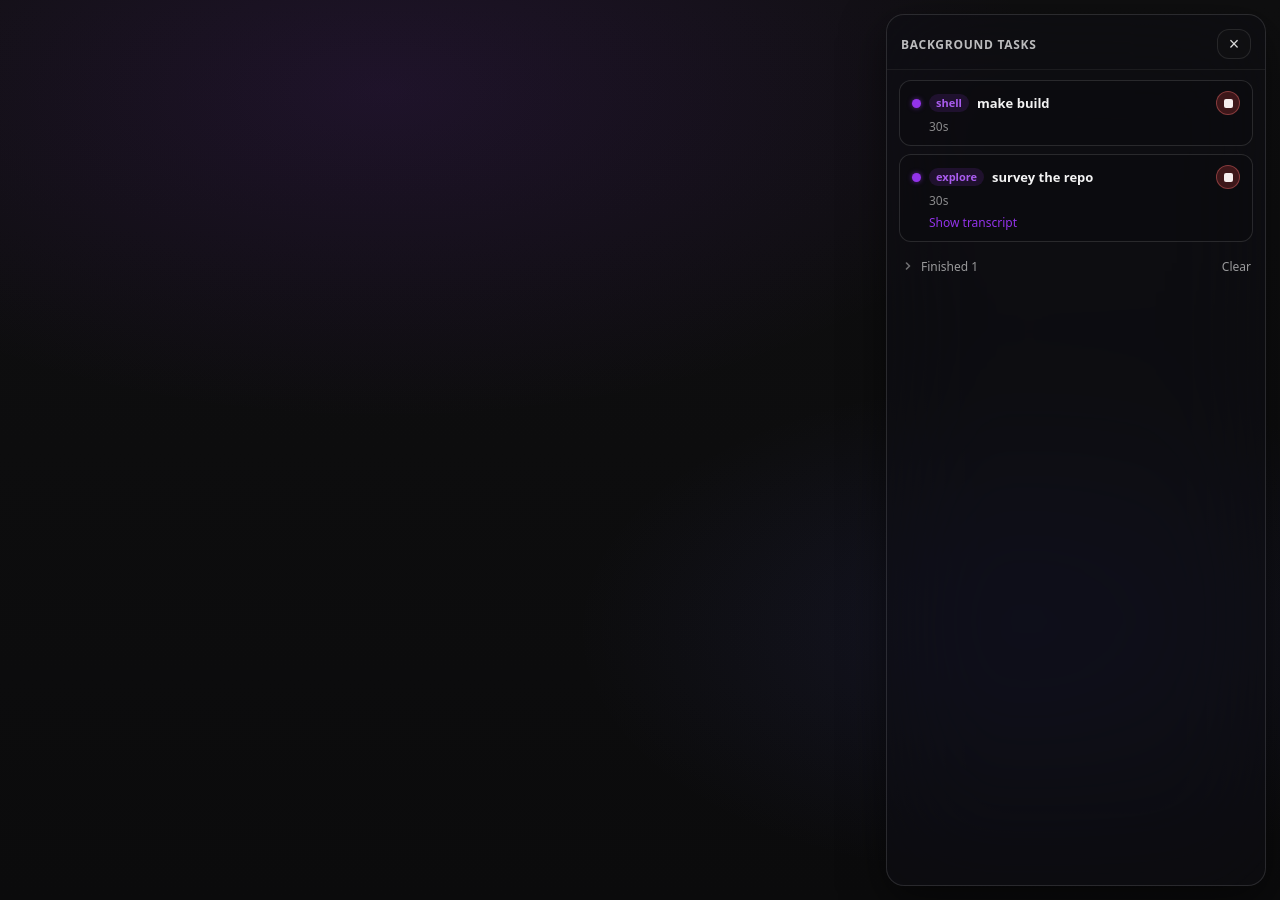
it: any number of cards stay open side by side, each with its own output
Click the button with test id "bgtask-open-bg_1" at (949, 103), box 912,94 -> 1208,112
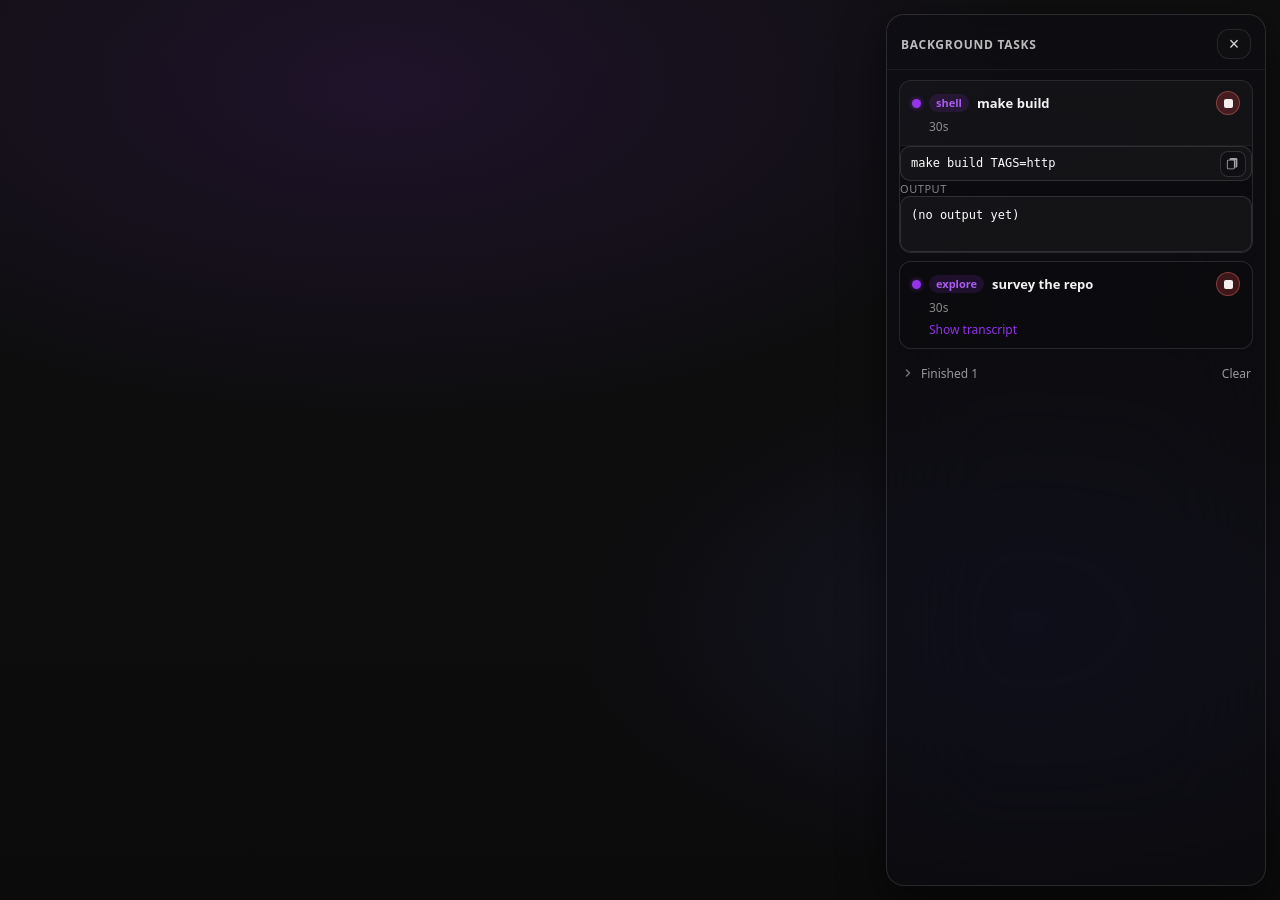
Click the button with test id "bgtask-open-bg_7" at (1060, 284), box 912,275 -> 1208,293
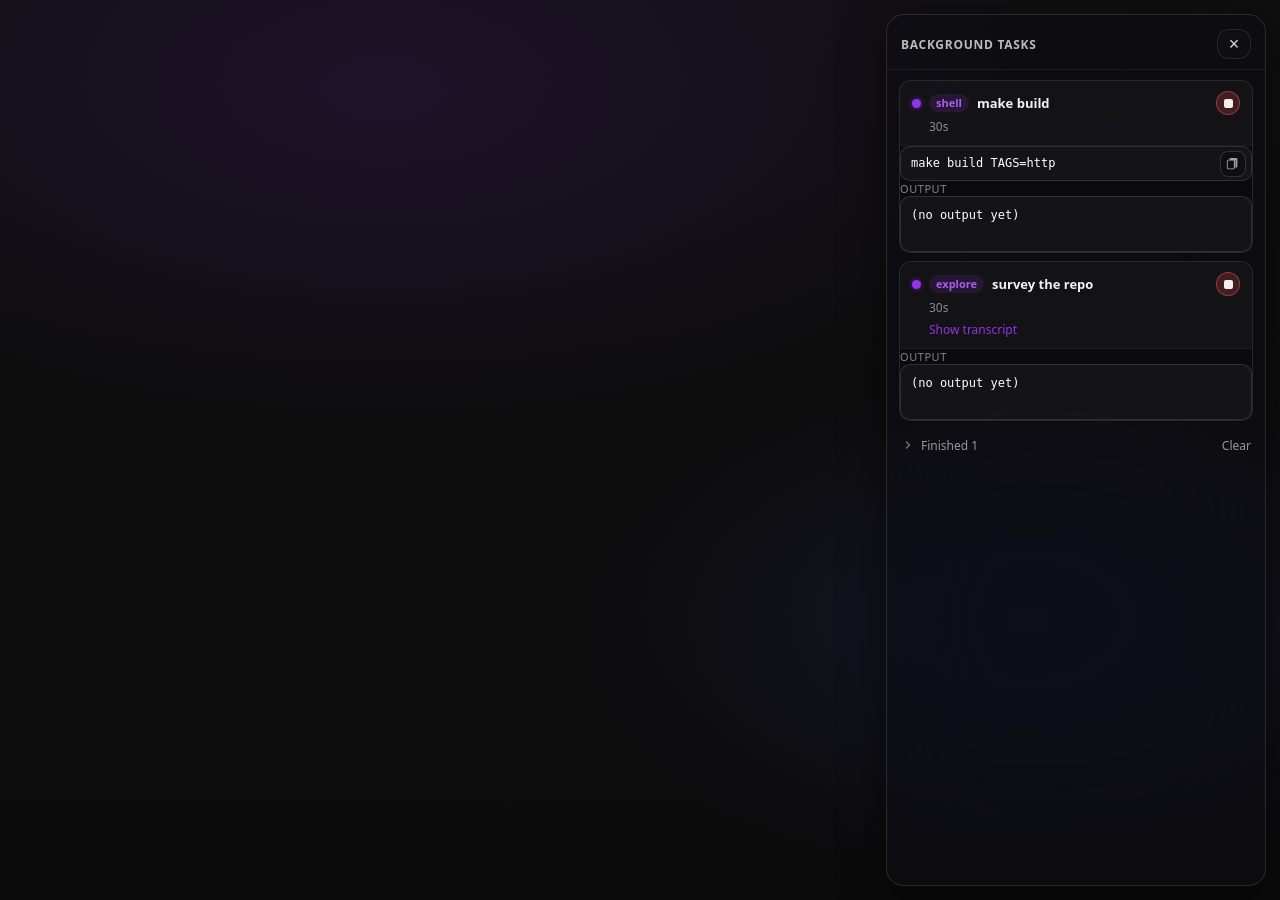
Click the button with test id "bgtask-finished-toggle" at (940, 445), box 901,431 -> 978,459
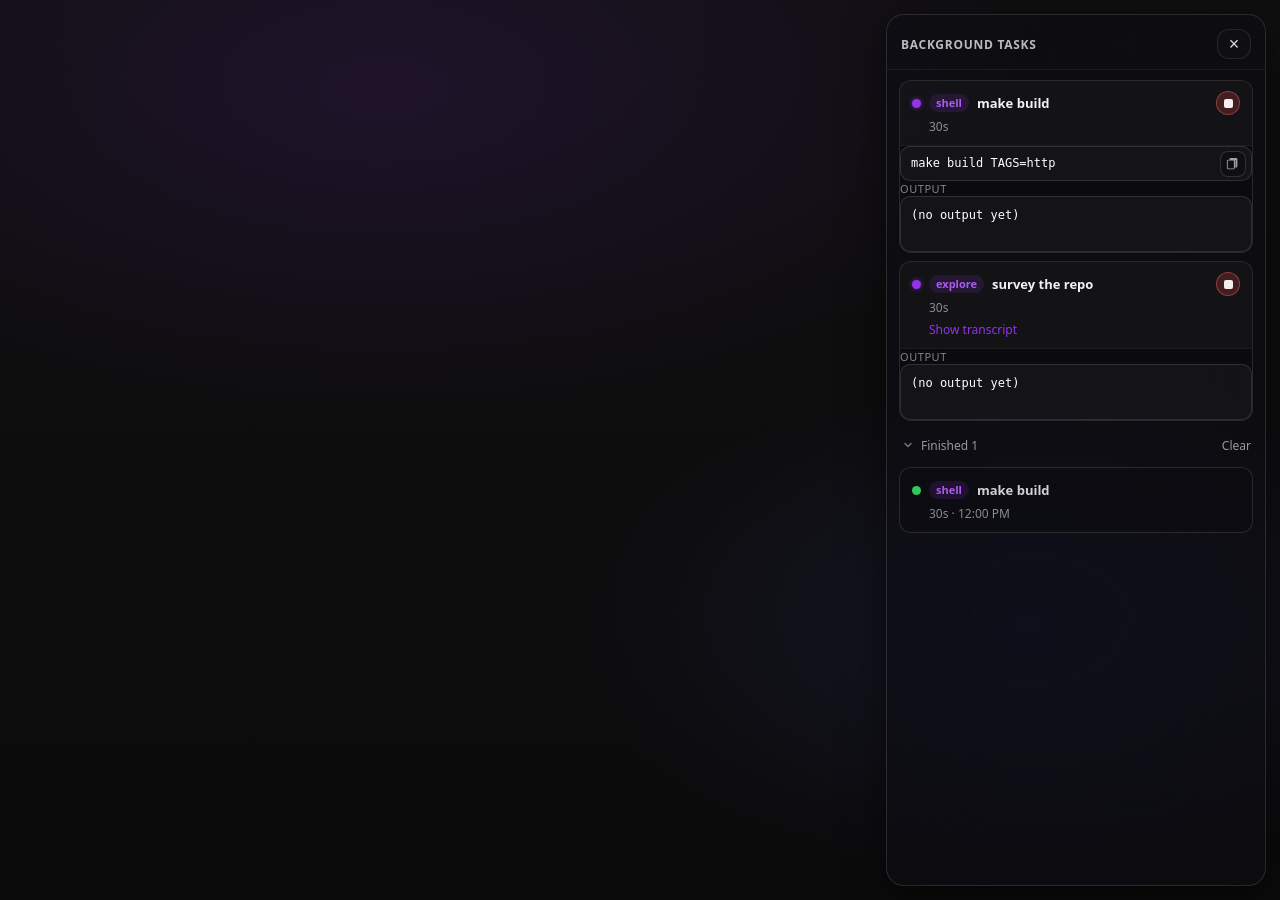
Click the button with test id "bgtask-open-bg_2" at (949, 490), box 912,481 -> 1240,499
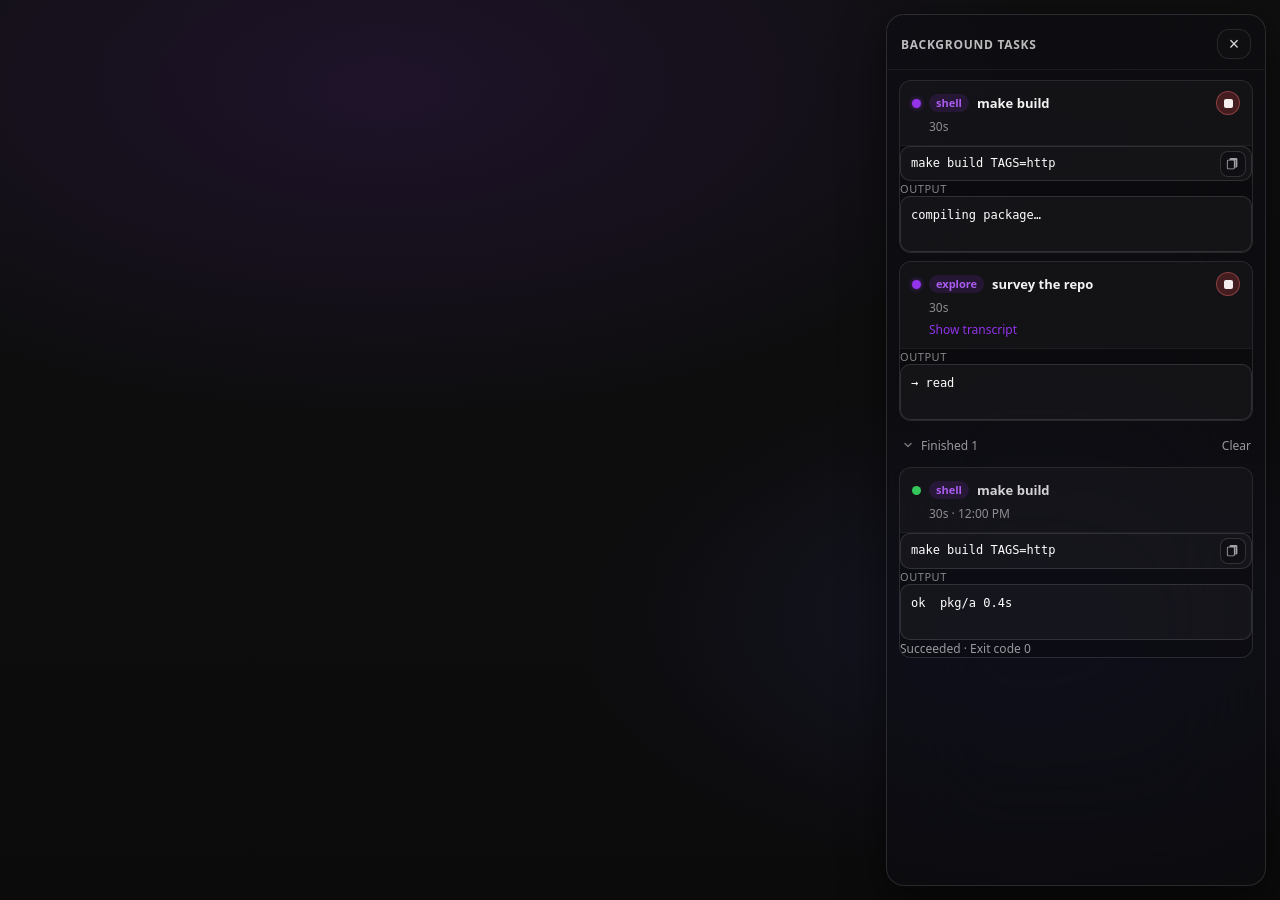
Check: the text "compiling package…" is shown, box 900,196 -> 1252,252
Check: the text "→ read" is shown, box 900,364 -> 1252,420
Check: the text "ok pkg/a 0.4s" is shown, box 900,584 -> 1252,640
// Folding one leaves the others as they were.
Click the button with test id "bgtask-open-bg_7" at (1060, 284), box 912,275 -> 1208,293
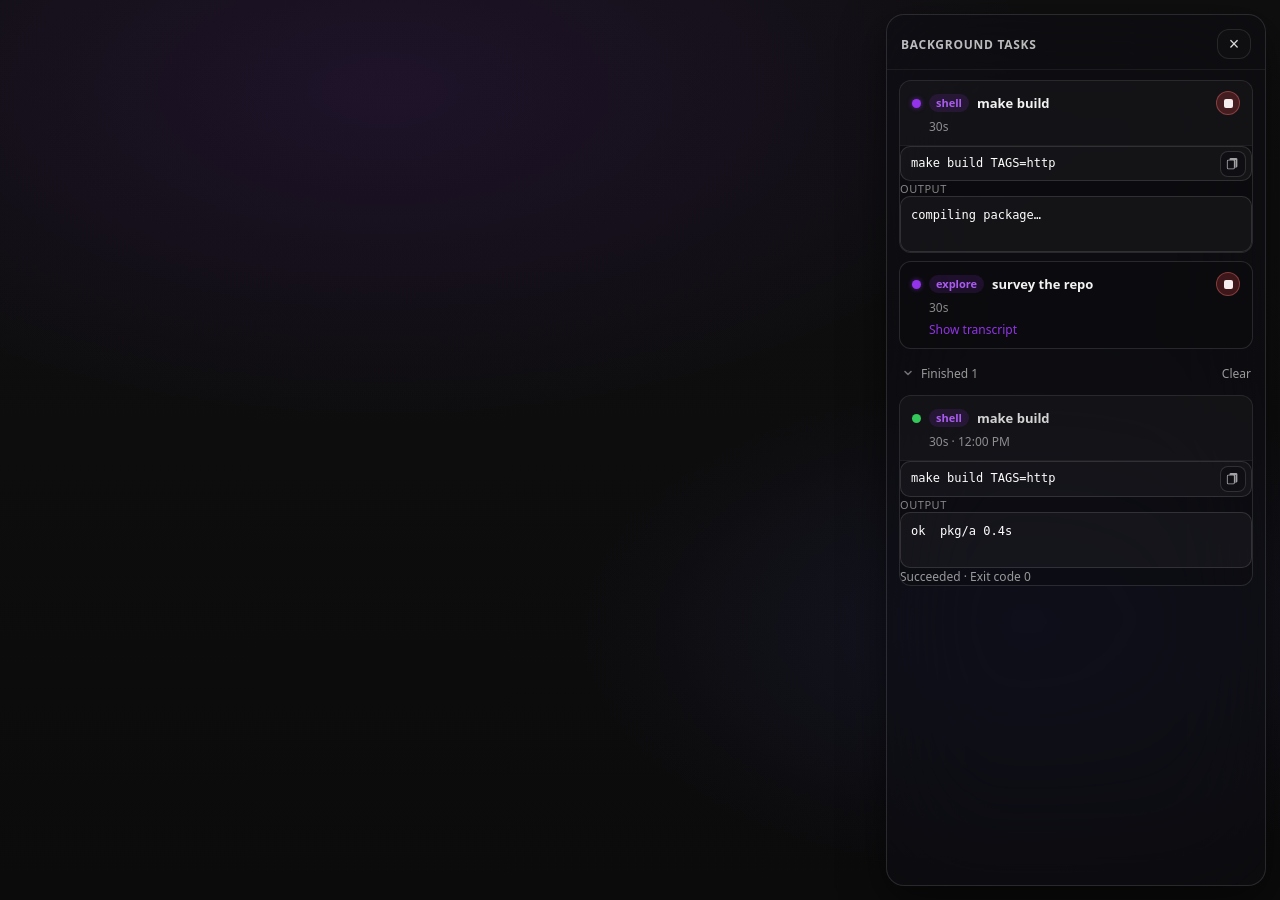
Check: the element with test id "bgtask-body-bg_1" is shown, box 900,145 -> 1252,252
Check: the element with test id "bgtask-body-bg_2" is shown, box 900,460 -> 1252,585
Check: the element with test id "bgtask-body-bg_7" is gone
